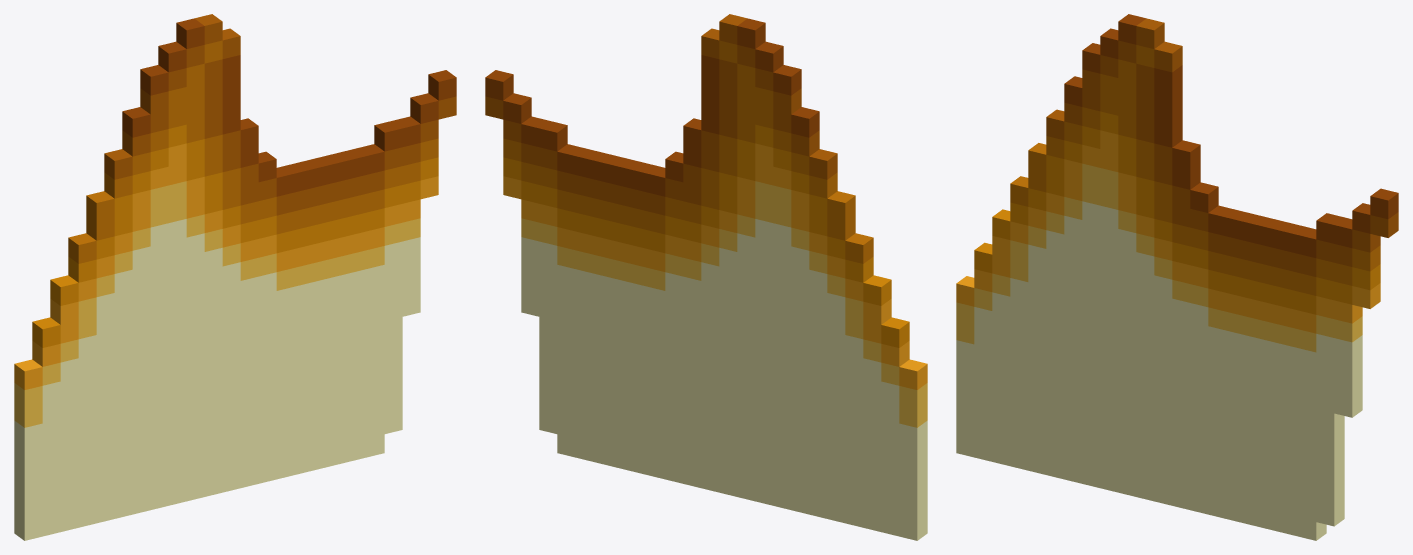
The model's file is Fight_213_2_09_fx.obj.
3 renders of one model, left to right at view 1: azimuth 30°, elevation 25°; view 2: azimuth 150°, elevation 25°; view 3: azimuth 330°, elevation 25°, orthographic.
Size of the model in its own units: 2.4 by 2.5 by 0.1.
Materials: 1 (1 with a texture image).
